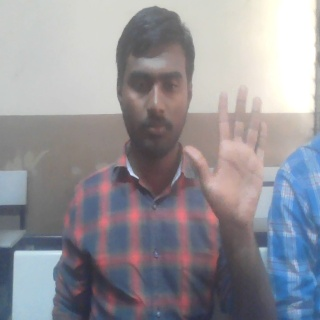Face: (114, 7, 195, 163)
Hello: (181, 85, 269, 232)
